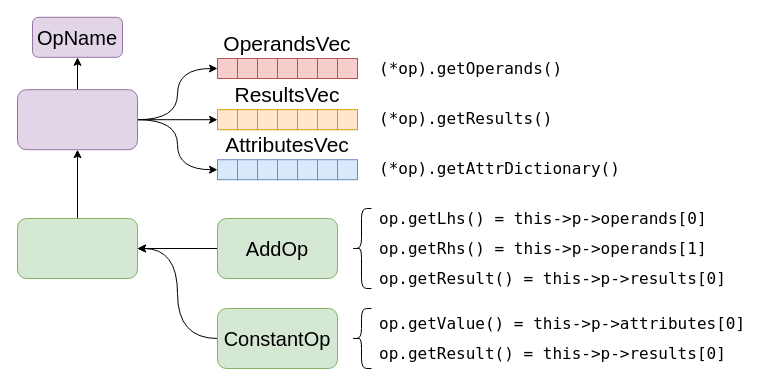
This 765x387 diagram has some shape labels left out. Here are the shapes that lost their labels. From the top down, the centre of each, then its label:
point (77, 119): Operation
point (77, 248): Operation*
